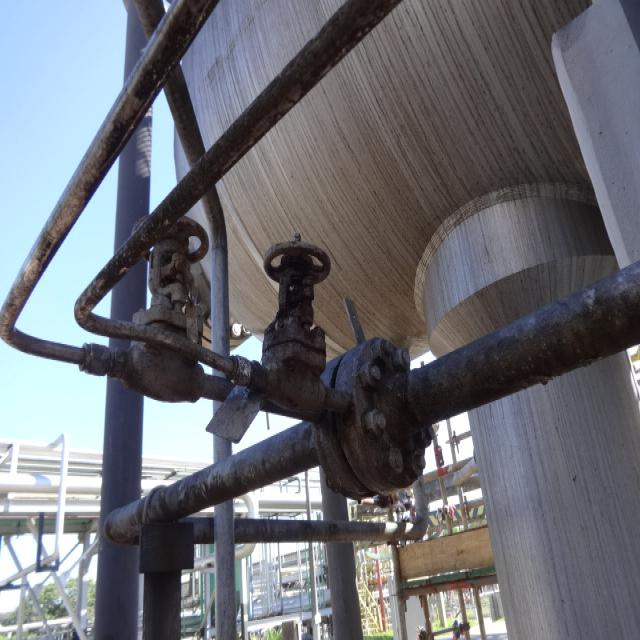gas: (106, 265, 640, 546), (78, 0, 401, 417), (0, 3, 299, 419), (137, 0, 236, 640), (147, 478, 423, 638), (94, 0, 155, 633)
